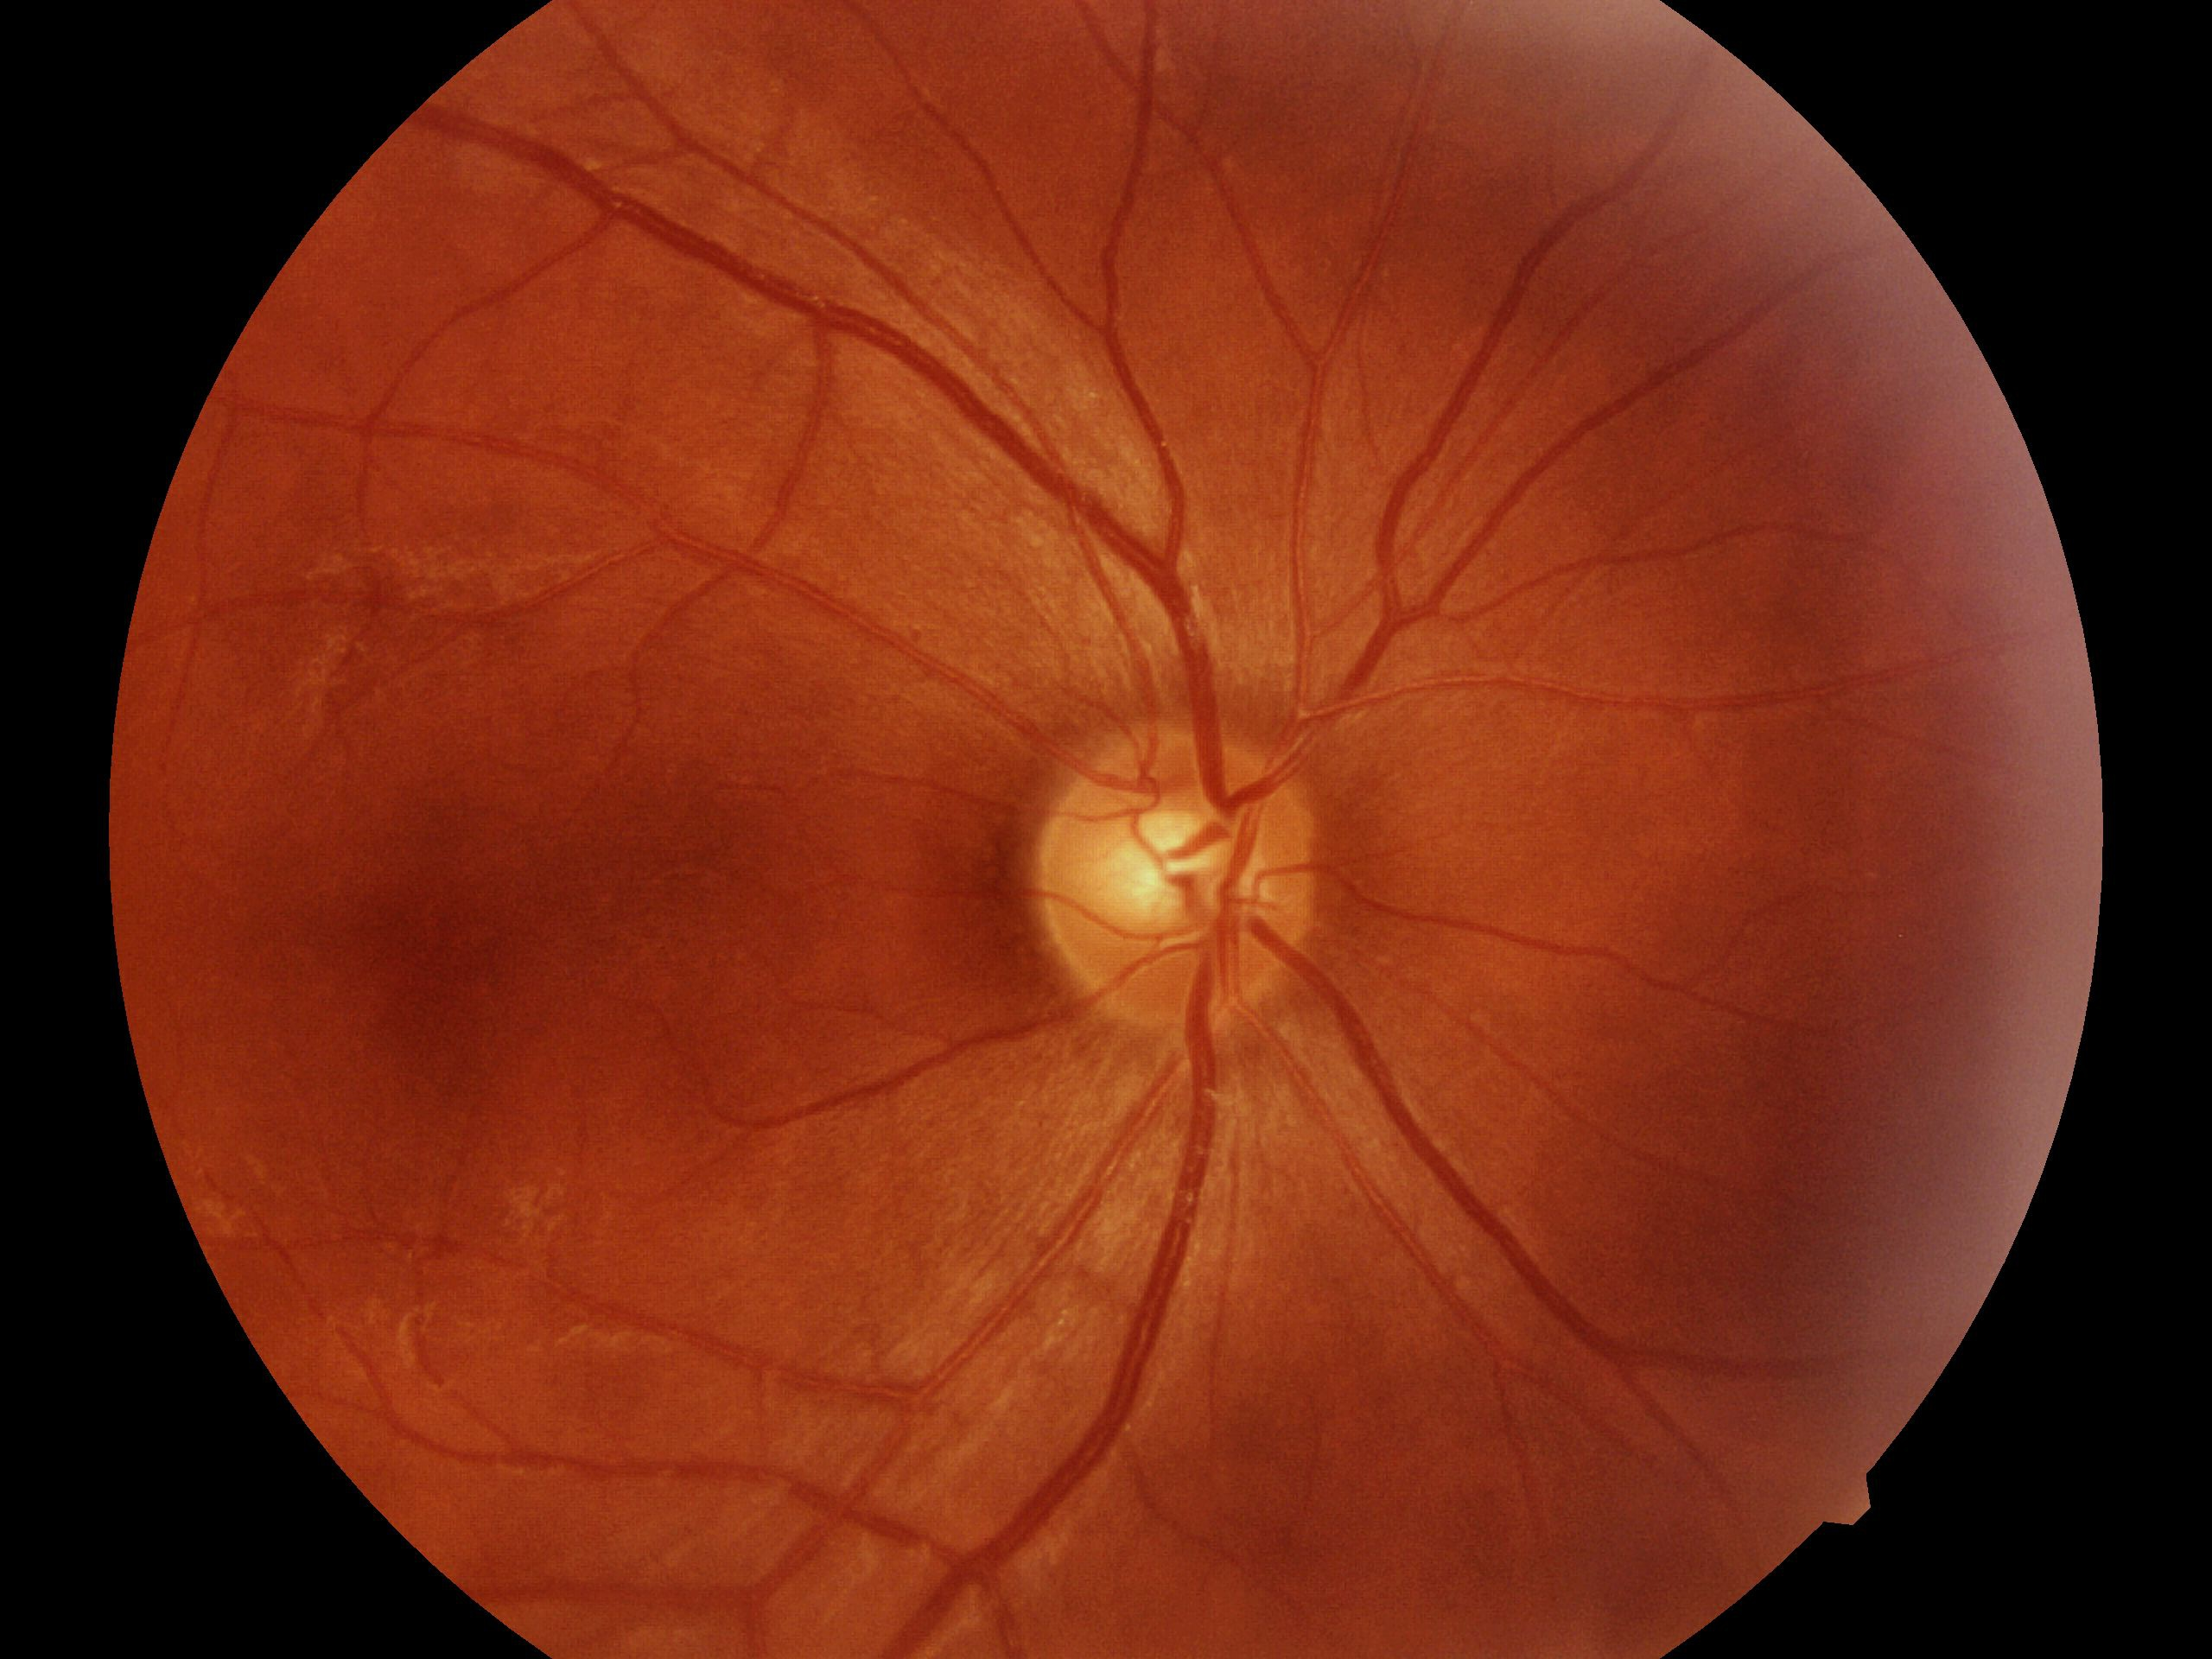Hemorrhages: (326, 735, 855, 1140)
Optic-Disc: (1061, 709, 1331, 1058)
Venules: (577, 136, 1212, 619), (948, 1141, 1191, 1610), (1421, 1100, 1684, 1405)
